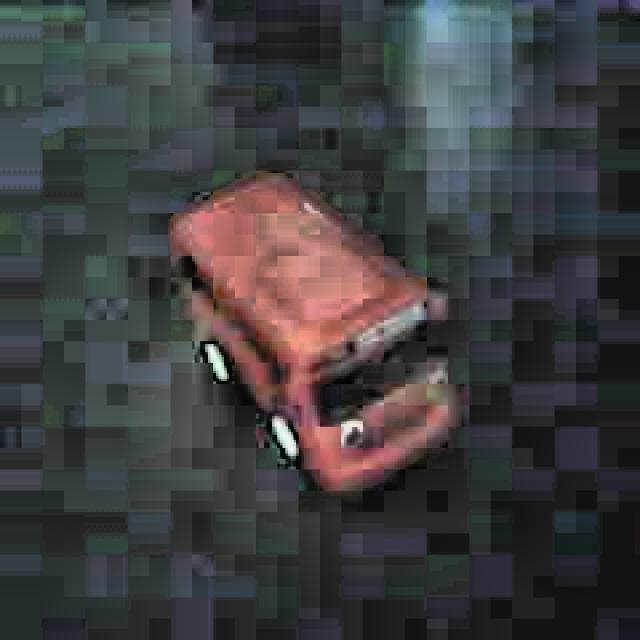bus: (162, 169, 464, 493)
